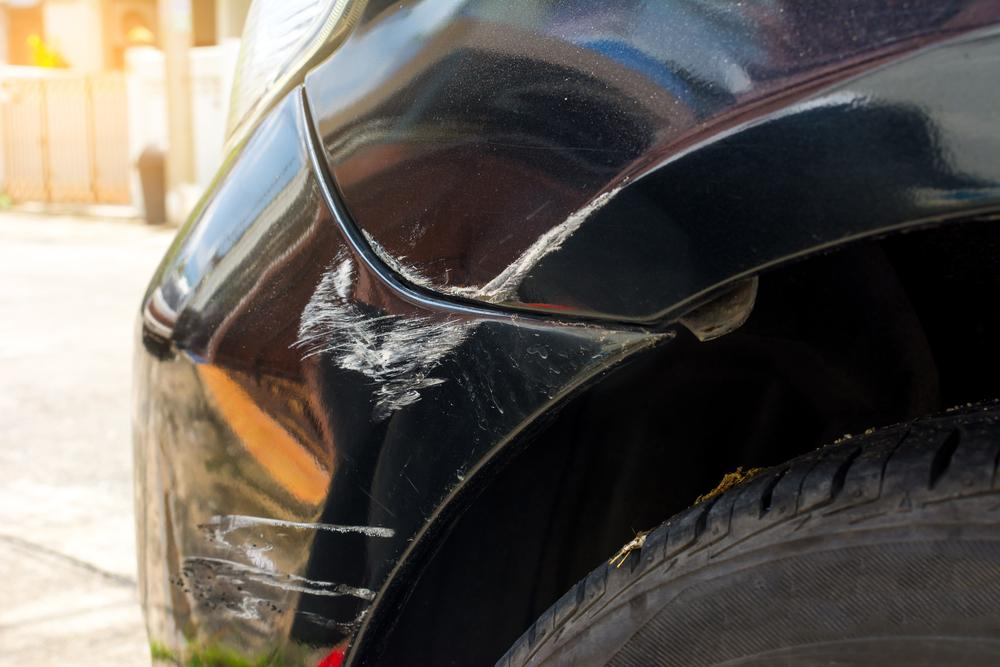scratch: (357, 171, 627, 303), (283, 251, 479, 418), (166, 504, 412, 635)
